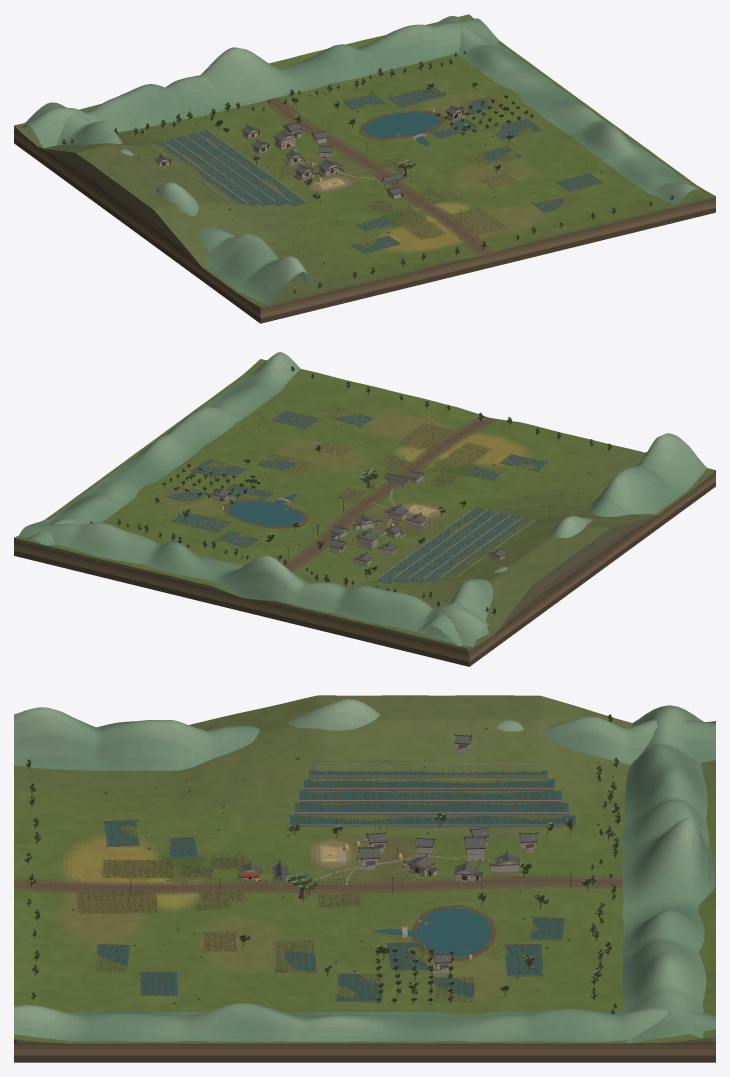
File: rural.glb
3 renders of one model, top to bottom at view 1: azimuth 30°, elevation 25°; view 2: azimuth 150°, elevation 25°; view 3: azimuth 270°, elevation 25°, orthographic. The views are drawn at different scales.
Visible parts, largest first — view 1: Rural_Rural_Ground_PBR, Rural_Mountain, Rural_Harvest_panicles, Rural_Matte.001, Rural_Branch_foliage, Rural_Rural_Dirt_PBR, Rural_Rough, Rural_Matte, Rural_Stone, Water_Pond, Rural_Rural_Grey_Tile_PBR, Rural_Rural_Limewash_PBR (+5 smaller); view 2: Rural_Rural_Ground_PBR, Rural_Mountain, Rural_Harvest_panicles, Rural_Matte.001, Rural_Branch_foliage, Rural_Rural_Dirt_PBR, Rural_Stone, Rural_Rough, Rural_Matte, Water_Pond, Rural_Rural_Limewash_PBR, Rural_Rural_Grey_Tile_PBR (+5 smaller); view 3: Rural_Rural_Ground_PBR, Rural_Mountain, Rural_Harvest_panicles, Rural_Matte.001, Rural_Stone, Rural_Branch_foliage, Rural_Rural_Dirt_PBR, Rural_Matte, Water_Pond, Water_Terrace.001, Rural_Rough, Rural_Rural_Grey_Tile_PBR (+11 smaller).
Part boxes in pixels (x1,y1,x2,y2): Rural_Rural_Ground_PBR: [14, 14, 715, 310]; Rural_Mountain: [19, 16, 707, 305]; Rural_Harvest_panicles: [151, 87, 600, 252]; Rural_Matte.001: [14, 73, 715, 323]; Rural_Branch_foliage: [61, 51, 674, 292]; Rural_Rural_Dirt_PBR: [268, 98, 487, 252]; Rural_Rough: [270, 86, 603, 253]; Rural_Matte: [63, 52, 672, 293]; Rural_Stone: [151, 115, 462, 213]; Water_Pond: [364, 112, 439, 137]; Rural_Rural_Grey_Tile_PBR: [155, 106, 463, 194]; Rural_Rural_Limewash_PBR: [156, 110, 467, 198]; Rural_Rural_Ground_PBR: [14, 359, 715, 653]; Rural_Mountain: [19, 352, 706, 646]; Rural_Harvest_panicles: [158, 408, 546, 582]; Rural_Matte.001: [14, 418, 715, 666]; Rural_Branch_foliage: [90, 366, 646, 613]; Rural_Rural_Dirt_PBR: [222, 419, 487, 569]; Rural_Stone: [213, 450, 534, 581]; Rural_Rough: [156, 407, 548, 569]; Rural_Matte: [91, 378, 609, 615]; Water_Pond: [227, 501, 303, 526]; Rural_Rural_Limewash_PBR: [209, 474, 504, 565]; Rural_Rural_Grey_Tile_PBR: [213, 471, 506, 560]; Rural_Rural_Ground_PBR: [14, 695, 715, 1043]; Rural_Mountain: [14, 699, 715, 1043]; Rural_Harvest_panicles: [76, 760, 573, 1002]; Rural_Matte.001: [14, 1043, 715, 1062]; Rural_Stone: [158, 744, 575, 969]; Rural_Branch_foliage: [24, 714, 620, 1013]; Rural_Rural_Dirt_PBR: [25, 879, 622, 961]; Rural_Matte: [28, 734, 646, 1010]; Water_Pond: [416, 908, 490, 957]; Water_Terrace.001: [294, 803, 568, 812]; Rural_Rough: [29, 819, 622, 1003]; Rural_Rural_Grey_Tile_PBR: [239, 735, 537, 962].
Bounding box in the file's own units: 320 × 34.29 × 300.
23 materials, 10 textured.
